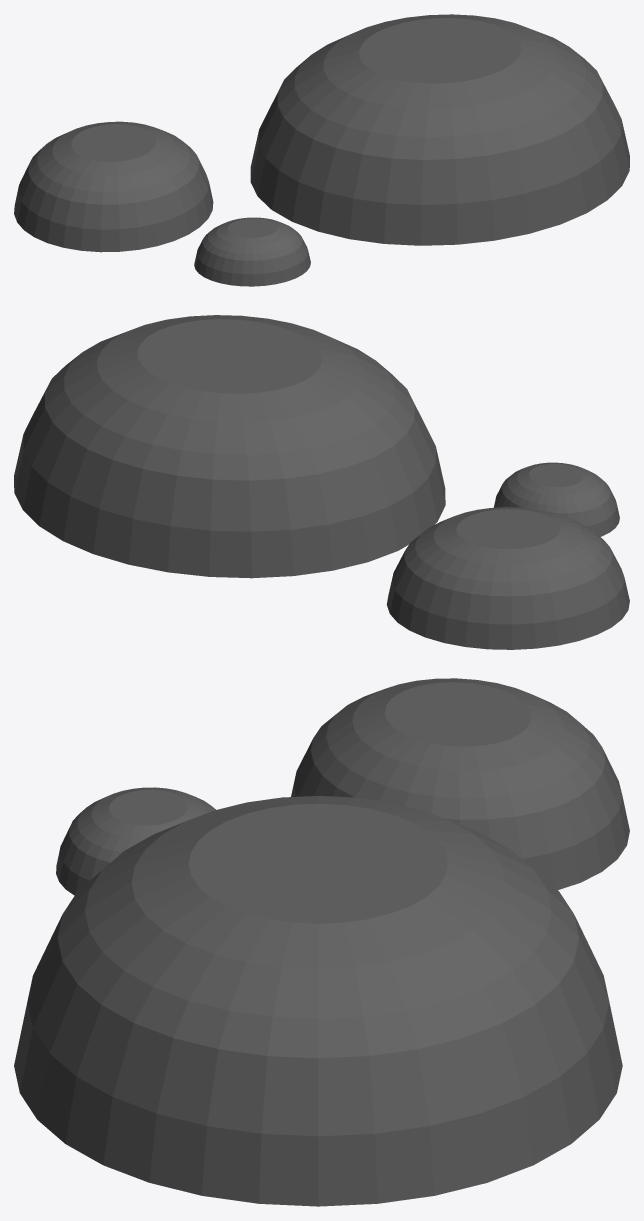
File: PiedrasTC.fbx
3 renders of one model, top to bottom at view 1: azimuth 30°, elevation 25°; view 2: azimuth 150°, elevation 25°; view 3: azimuth 270°, elevation 25°, orthographic. The views are drawn at different scales.
Visible parts, largest first — view 1: Piedras; view 2: Piedras; view 3: Piedras.
Boxes of the visible parts, x1,y1,x2,y2 form: Piedras: (14, 14, 629, 286); Piedras: (14, 315, 629, 649); Piedras: (14, 678, 629, 1206).
Bounding box in the file's own units: 3.23 × 0.673 × 1.85.
